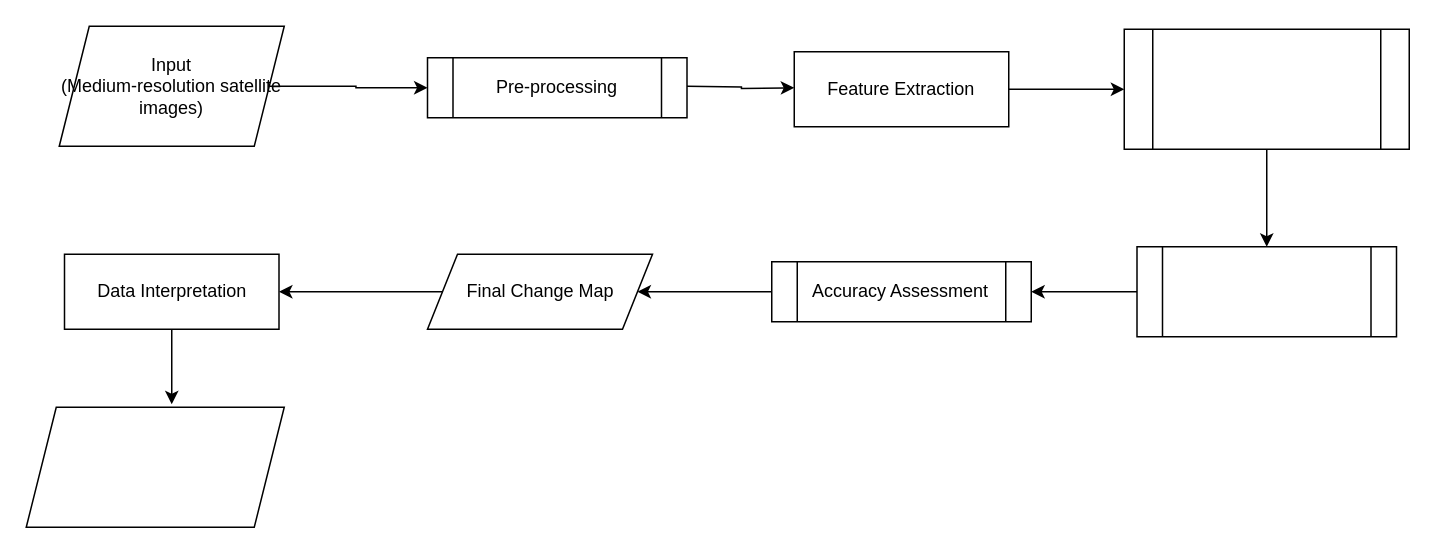
The diagram is 1436 pixels wide and 554 high, and some of its shapes have lost their labels. Here are the shapes that lost their labels. From the top down, the centre of each, then its label:
[1266,88]: Change Detection Algorithm (image differencing, post-classification)
[1266,291]: Post-processing (Remove nose, false alarms)
[154,466]: Output Results (Maps, statistics, graphs, charts, reports)
